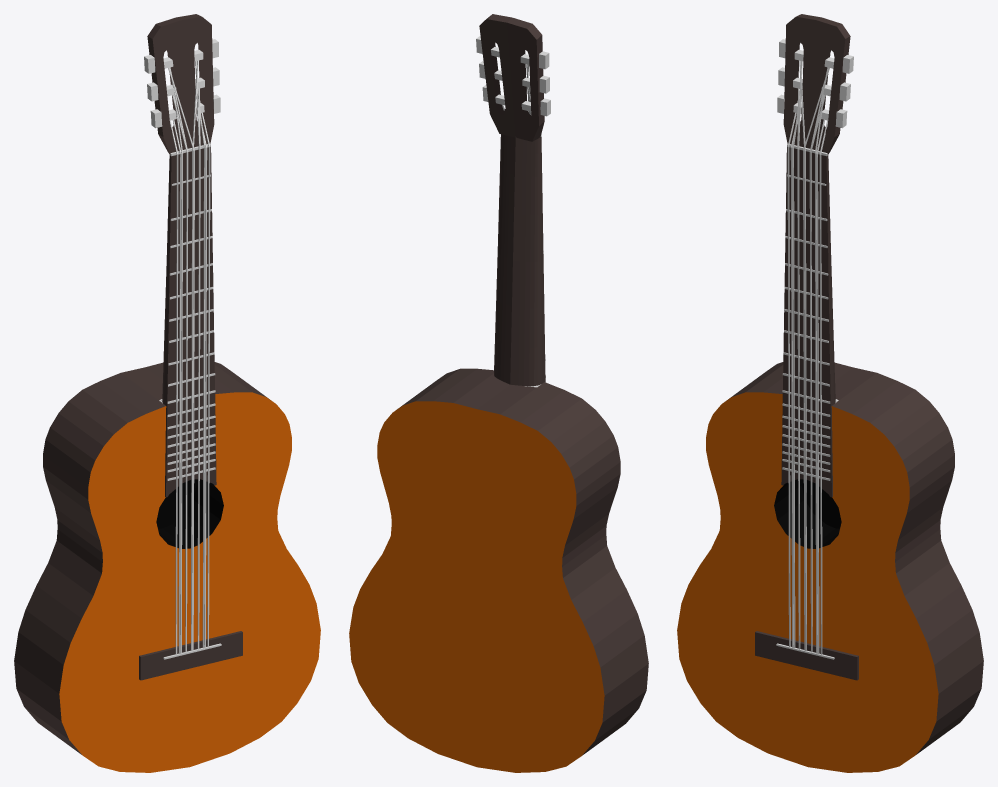
Rendered from guitar_stage1.fbx.
3 renders of one model, left to right at view 1: azimuth 30°, elevation 25°; view 2: azimuth 150°, elevation 25°; view 3: azimuth 330°, elevation 25°, orthographic. The views are drawn at different scales.
Parts seen in each view (by area): view 1: guitar_stage1; view 2: guitar_stage1; view 3: guitar_stage1.
Boxes of the visible parts, x1,y1,x2,y2 form: guitar_stage1: (14, 14, 320, 772); guitar_stage1: (349, 14, 648, 772); guitar_stage1: (677, 14, 983, 772).
Bounding box in the file's own units: 77.31 × 209 × 25.1.
